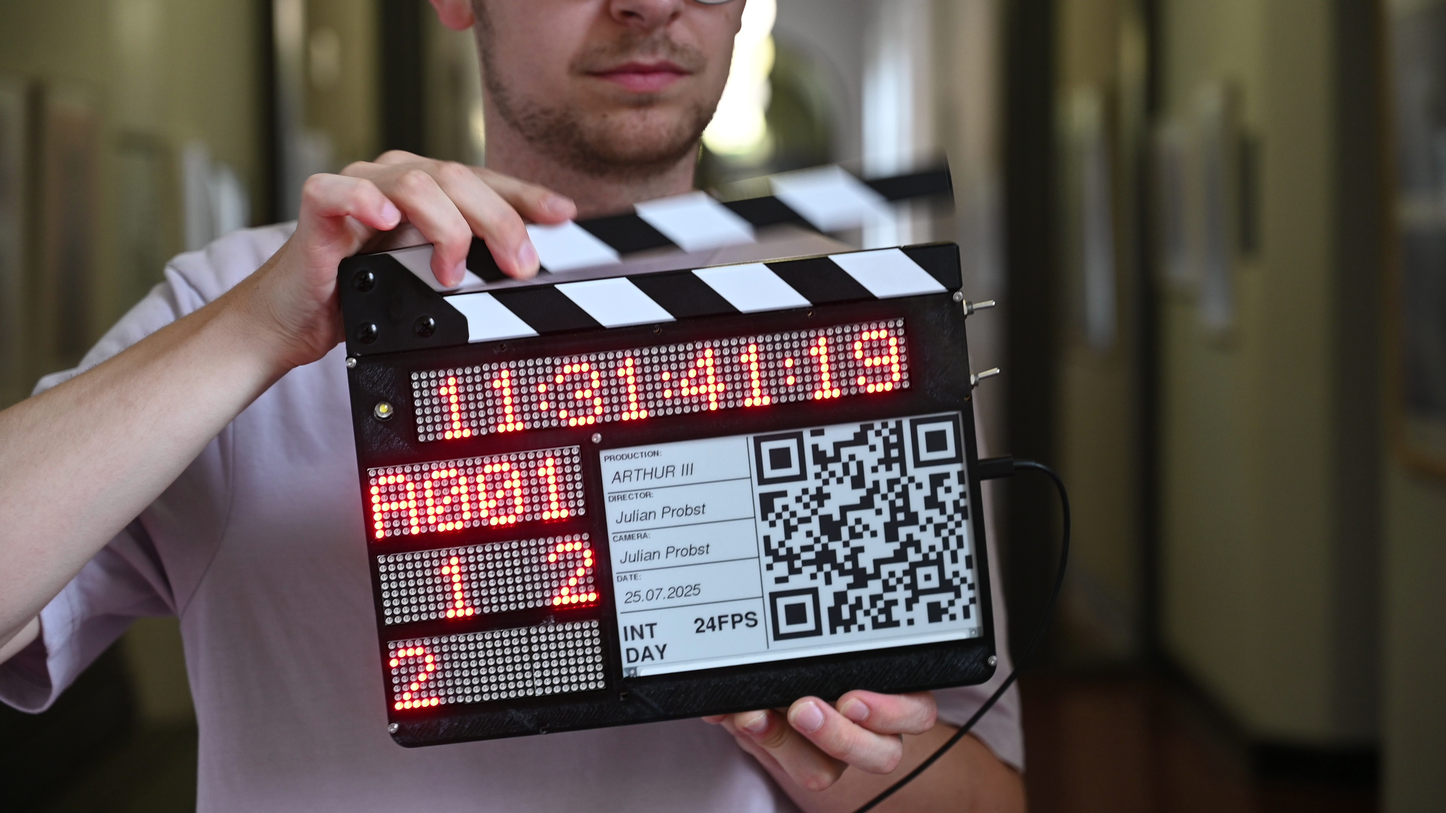ARC-SLATE: (344, 243, 995, 744)
